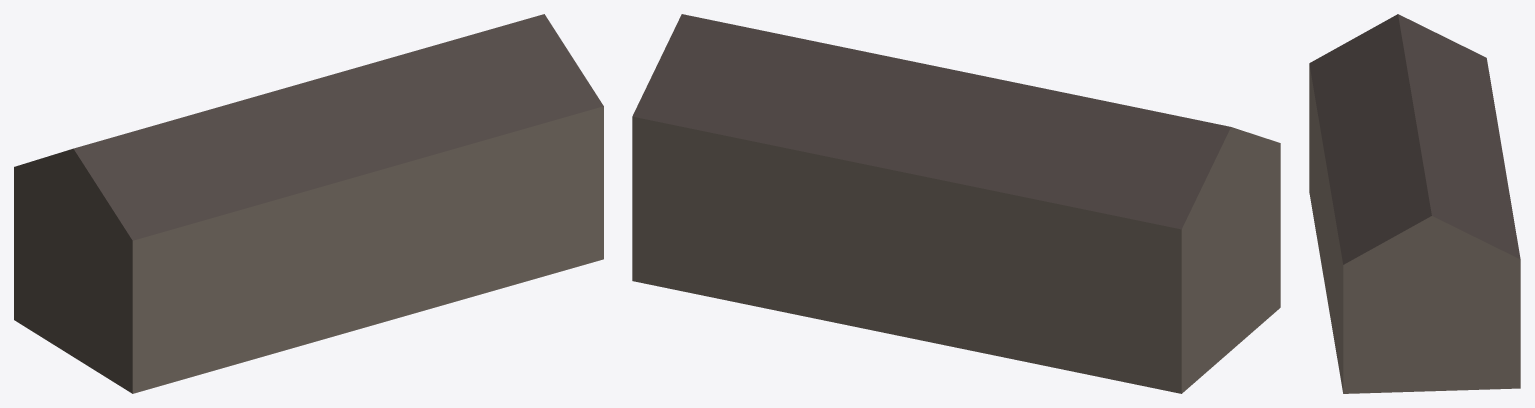
The picture shows the model from 3 angles, left to right: view 1: azimuth 30°, elevation 25°; view 2: azimuth 150°, elevation 25°; view 3: azimuth 270°, elevation 25°; orthographic projection. The views are drawn at different scales.
Visible parts, largest first — view 1: HP-w408450653; view 2: HP-w408450653; view 3: HP-w408450653.
Part boxes in pixels (left/top/right/bottom): HP-w408450653: left=14, top=14, right=603, bottom=393; HP-w408450653: left=632, top=14, right=1280, bottom=393; HP-w408450653: left=1309, top=14, right=1520, bottom=393.
Bounding box in the file's own units: 20.69 × 8.17 × 8.91.
